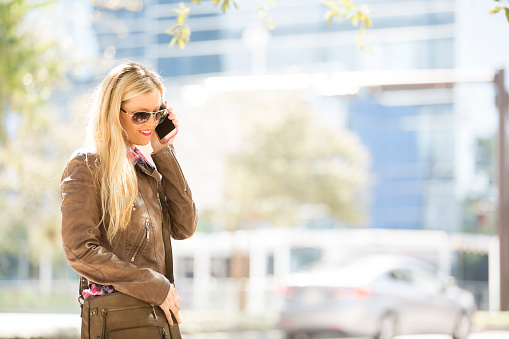em pe: (56, 74, 209, 339)
